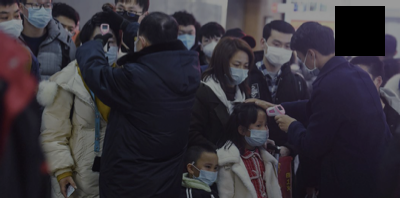with_mask: (91, 34, 121, 66), (264, 37, 294, 66), (23, 1, 53, 29), (0, 7, 24, 40), (223, 58, 250, 87), (245, 118, 270, 146), (195, 160, 220, 186), (296, 57, 319, 78), (203, 34, 222, 59), (177, 28, 196, 51)
